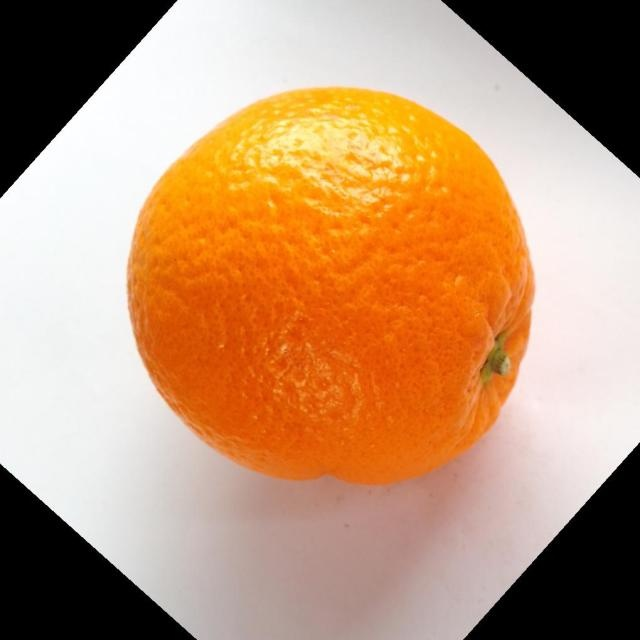agrume: (125, 85, 536, 486)
